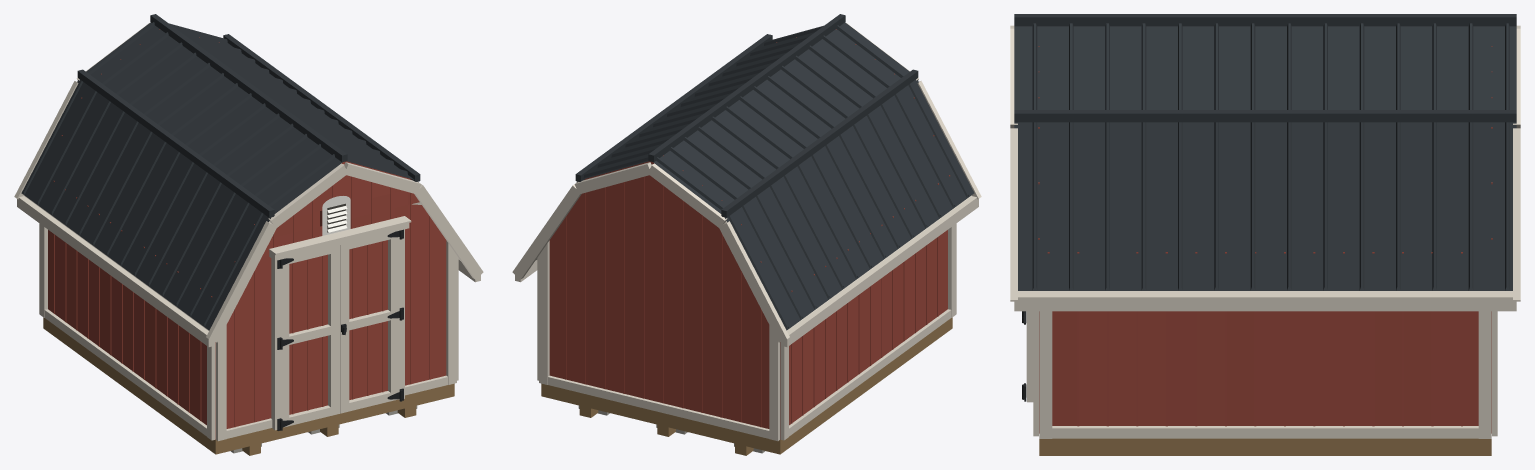
The model's file is 20-mini-barn.glb.
3 views of the same model, side by side, from view 1: azimuth 30°, elevation 25°; view 2: azimuth 150°, elevation 25°; view 3: azimuth 270°, elevation 25° (orthographic). The views are drawn at different scales.
Parts seen in each view (by area): view 1: Main roof, front wall double, front wall, left wall, Floor platform and skids, front wall vent; view 2: Main roof, rear wall, left wall, Floor platform and skids; view 3: Main roof, right wall, Floor platform and skids, front wall, rear wall, front wall double.
Part boxes in pixels (x1,y1,x2,y2): Main roof: (14, 14, 483, 346); front wall double: (269, 216, 411, 430); front wall: (215, 161, 456, 441); left wall: (39, 181, 215, 440); Floor platform and skids: (43, 317, 454, 455); front wall vent: (322, 196, 350, 235); Main roof: (512, 14, 981, 346); rear wall: (539, 155, 780, 441); left wall: (780, 175, 956, 440); Floor platform and skids: (541, 317, 952, 455); Main roof: (1010, 14, 1520, 311); right wall: (1039, 252, 1491, 438); Floor platform and skids: (1039, 438, 1491, 455); front wall: (1033, 46, 1039, 436); rear wall: (1491, 46, 1497, 436); front wall double: (1022, 311, 1033, 402).
Size of the model in its own units: 2.8 by 2.83 by 3.44.
